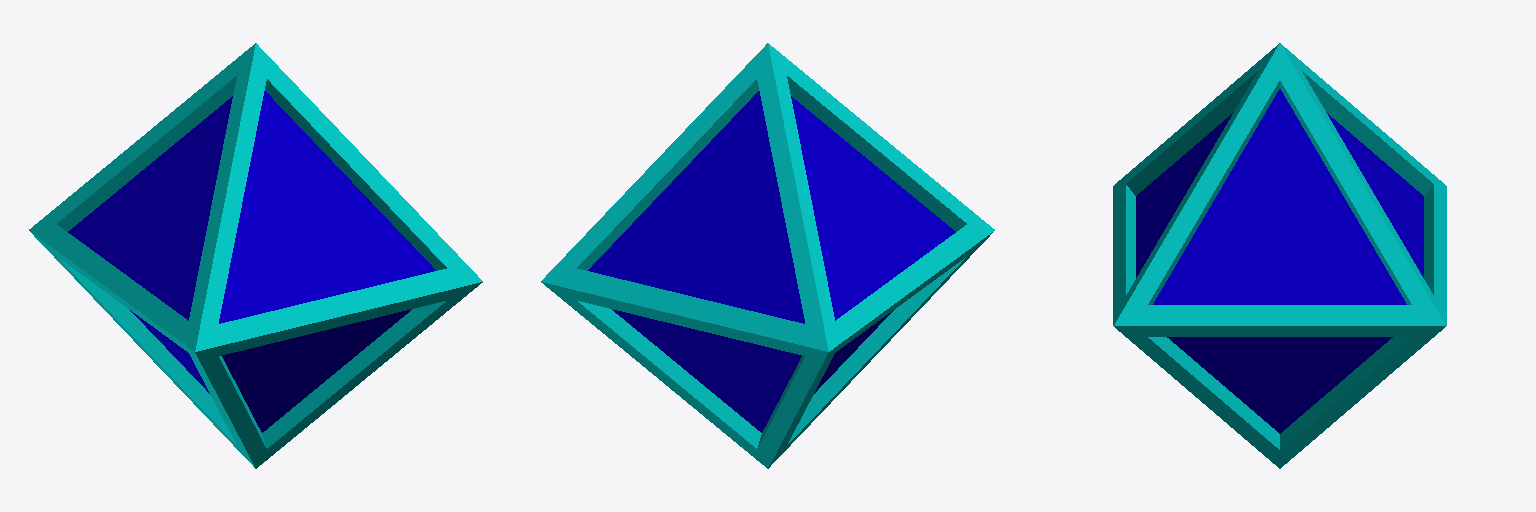
File: Experience_point.obj
3 views of the same model, side by side, from view 1: azimuth 30°, elevation 25°; view 2: azimuth 150°, elevation 25°; view 3: azimuth 270°, elevation 25° (orthographic).
Parts seen in each view (by area): view 1: 立方体.001; view 2: 立方体.001; view 3: 立方体.001.
Boxes of the visible parts, x1=… form: 立方体.001: x1=29, y1=43, x2=482, y2=468; 立方体.001: x1=541, y1=43, x2=994, y2=468; 立方体.001: x1=1113, y1=43, x2=1446, y2=468.
Size of the model in its own units: 1.17 by 1.65 by 1.17.